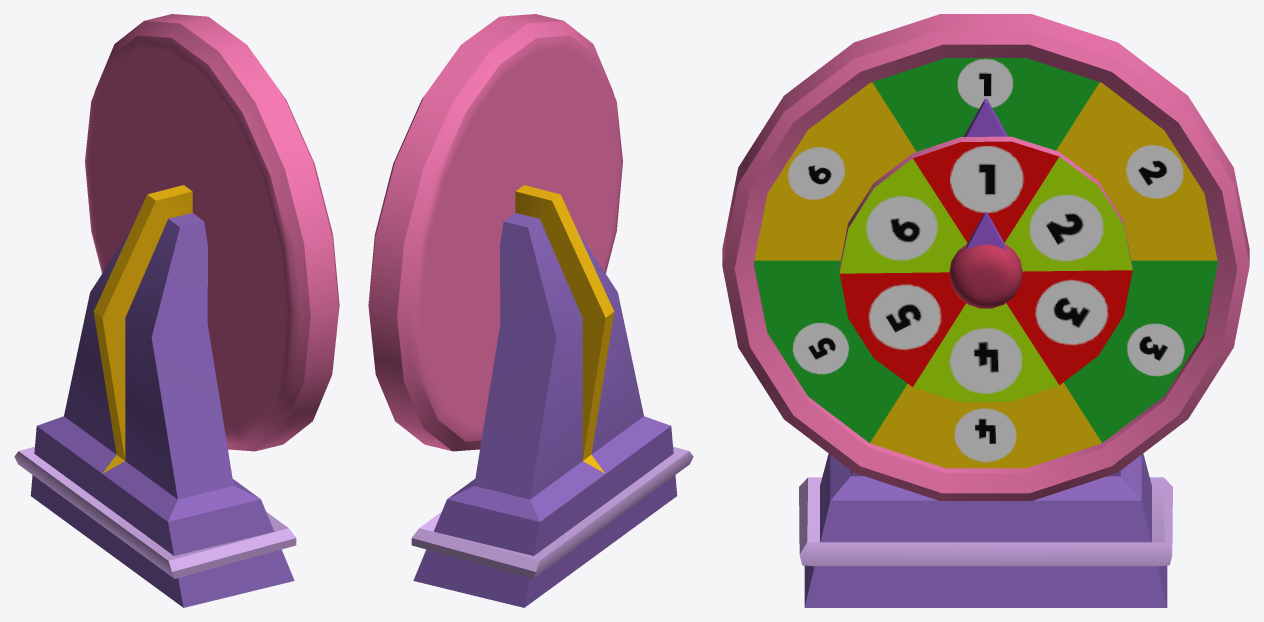
The model's file is spinner.fbx.
3 renders of one model, left to right at view 1: azimuth 30°, elevation 25°; view 2: azimuth 150°, elevation 25°; view 3: azimuth 270°, elevation 25°, orthographic. The views are drawn at different scales.
Visible parts, largest first — view 1: outer_spinner, base; view 2: outer_spinner, base; view 3: outer_spinner, inner_spinner, base, pointer.001, pointer.
Part boxes in pixels (box(x1,y1,x2,y2)): outer_spinner: box(85, 14, 339, 451); base: box(14, 185, 296, 607); outer_spinner: box(368, 14, 622, 451); base: box(411, 185, 693, 607); outer_spinner: box(722, 14, 1249, 500); inner_spinner: box(839, 136, 1132, 402); base: box(799, 454, 1172, 607); pointer.001: box(963, 98, 1007, 136); pointer: box(966, 212, 1005, 250).
Size of the model in its own units: 96.6 by 277 by 227.
3 materials, 3 textured.
